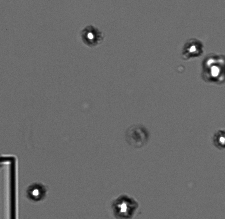Dead Cell: (126, 124, 149, 147)
Living Cell: (203, 53, 223, 84), (113, 192, 136, 216), (183, 38, 203, 58), (82, 25, 101, 46), (26, 182, 46, 201)
